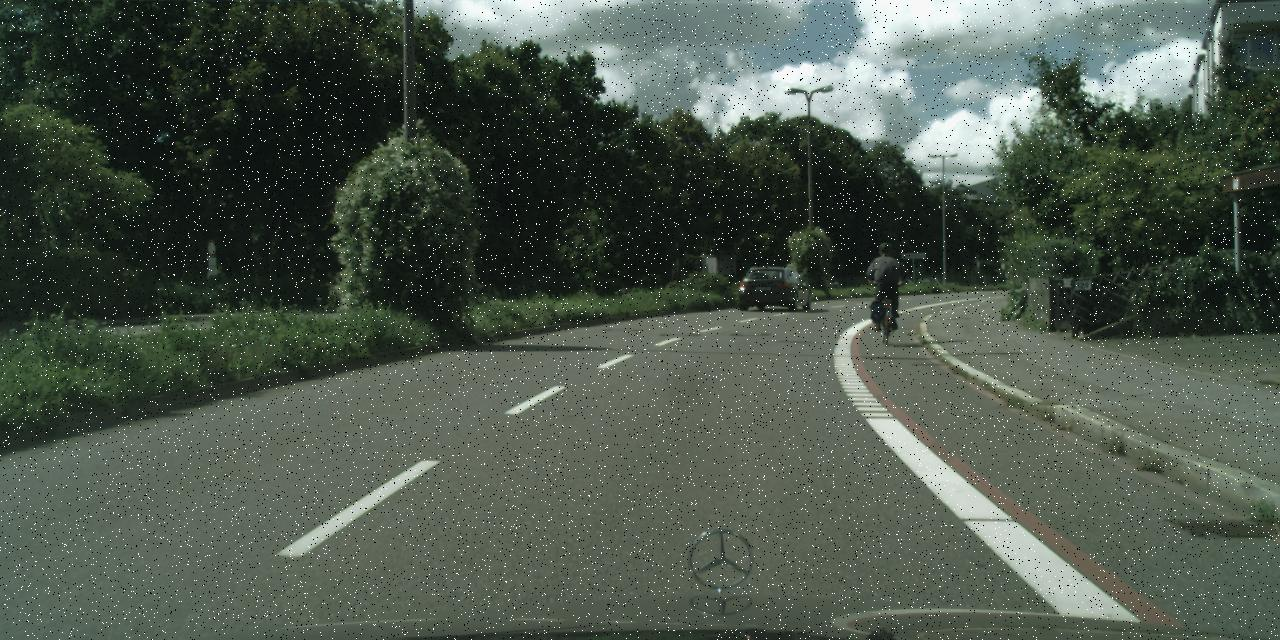ped: (868, 242, 903, 329)
